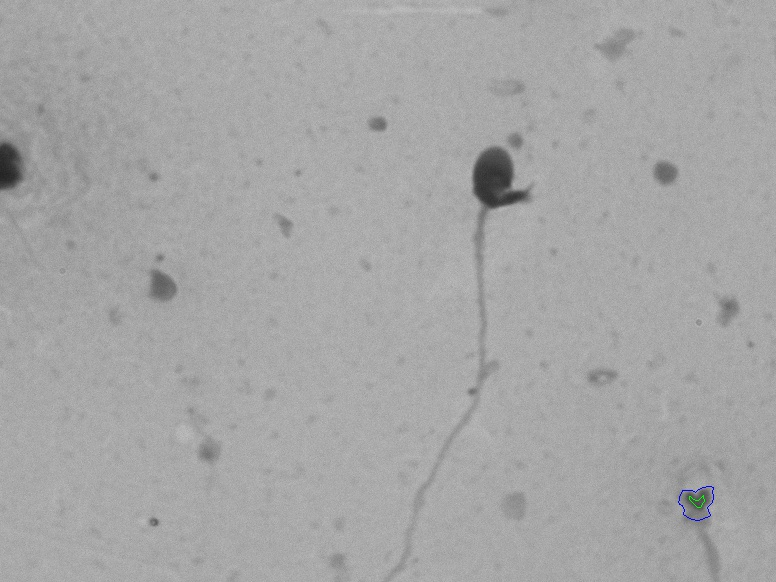Abnormal: (411, 123, 552, 520)
